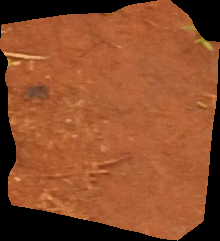soil: (1, 2, 216, 238)
